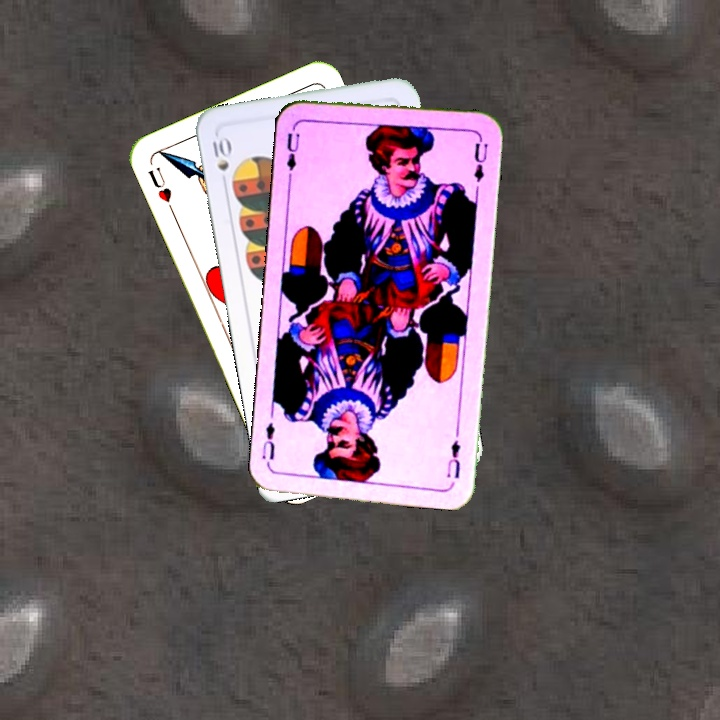EU: (282, 129, 302, 180), (443, 436, 463, 481)
HU: (144, 162, 177, 215)
S10: (207, 131, 233, 190)
